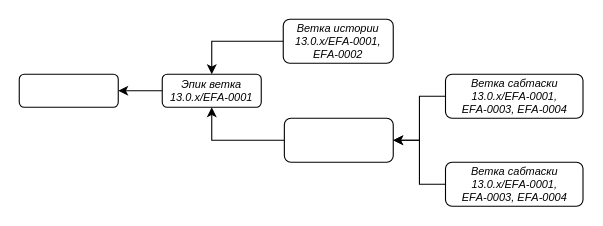
This 603x226 diagram has some shape labels left out. Here are the shapes that lost their labels. From the top down, the centre of each, then its label:
point (68, 90): Релизная ветка 13.0.x/release
point (338, 139): Ветка истории 13.0.x/EFА-0001, EFА-0003
